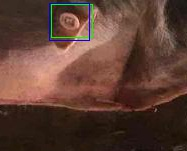text: (51, 4, 92, 37)
